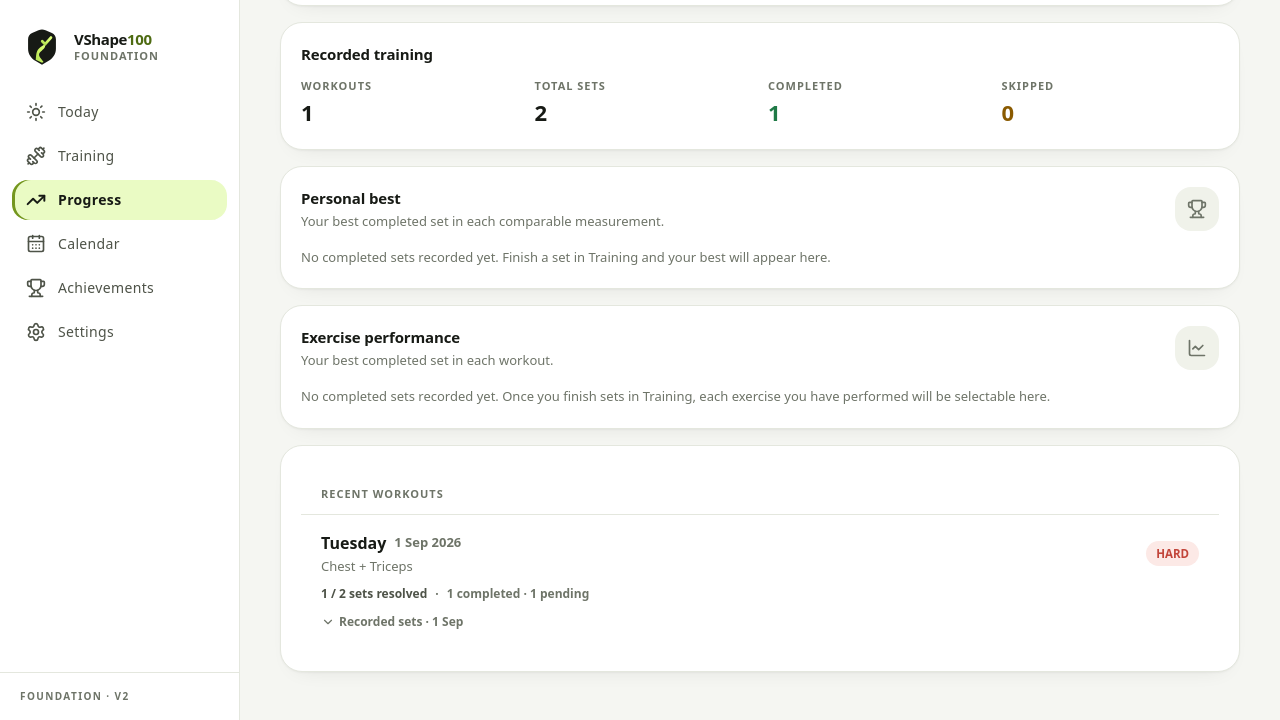
Test: correcting a recorded set › lists only the COMPLETED sets, showing what each recorded
(page scrolled)
Click the button "Recorded sets · 1 Sep". click: (392, 622)
box: [321,613,463,631]
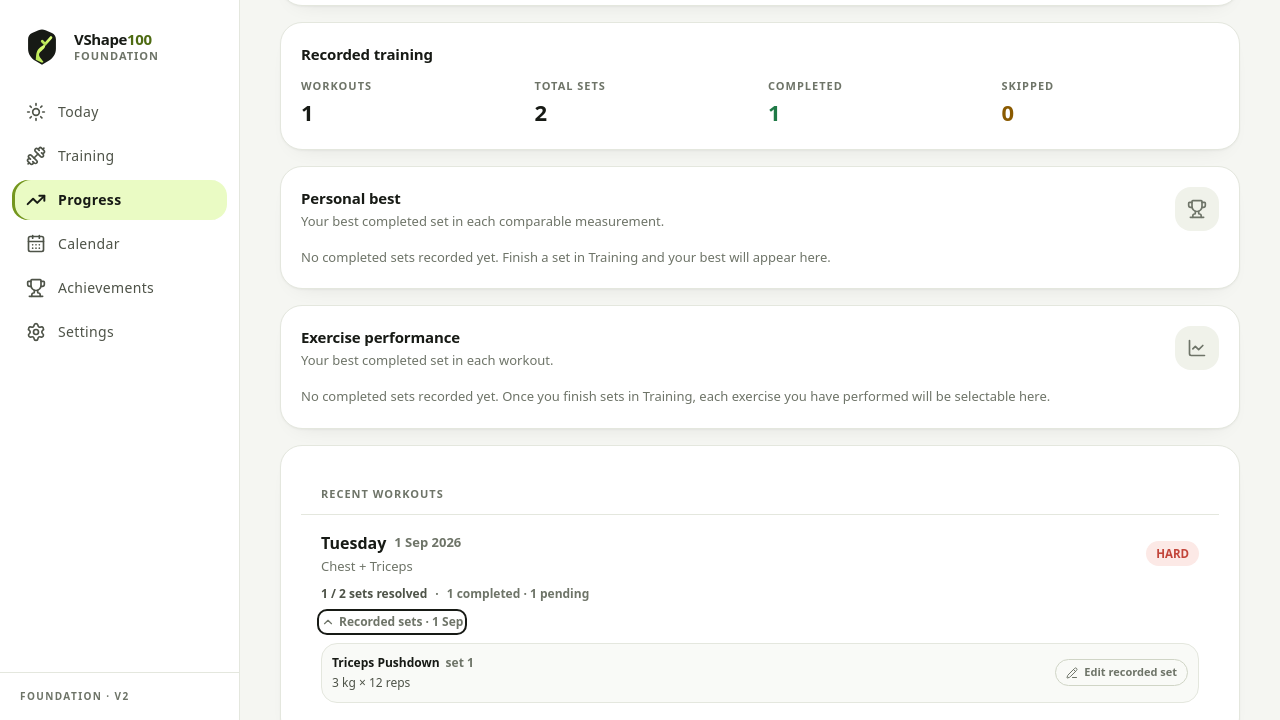
Expected: the text "3 kg × 12 reps" is shown, [332,674,410,691]
Expected: the number of buttons "Edit recorded set" is 1, [1055,659,1188,686]
